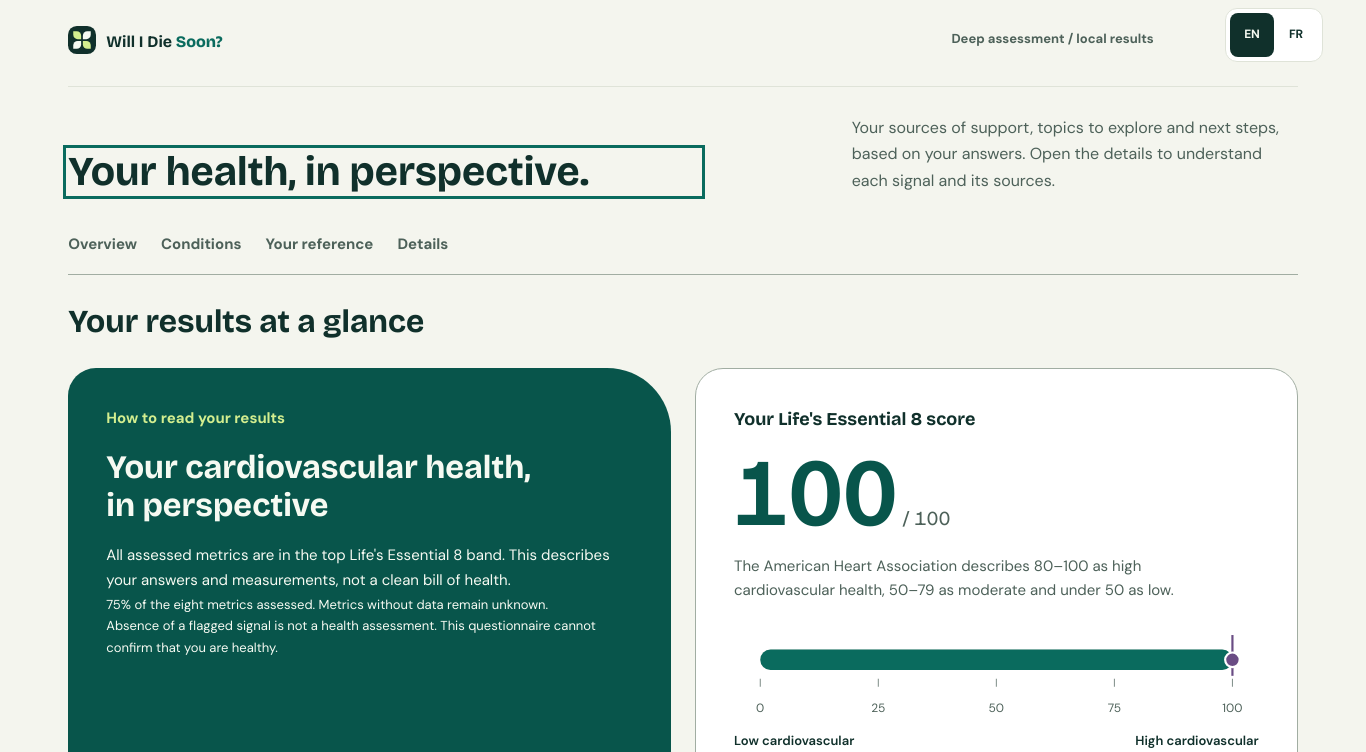
Test: focuses the result title on arrival and only links to accessible report sections
The width and height of the screenshot is (1366, 752).
What coordinates should you click on to do the following:
click the button with aria-label "Français"
I would click on:
 (1296, 35)
Its box is [1274,13,1318,57].
(page scrolled)
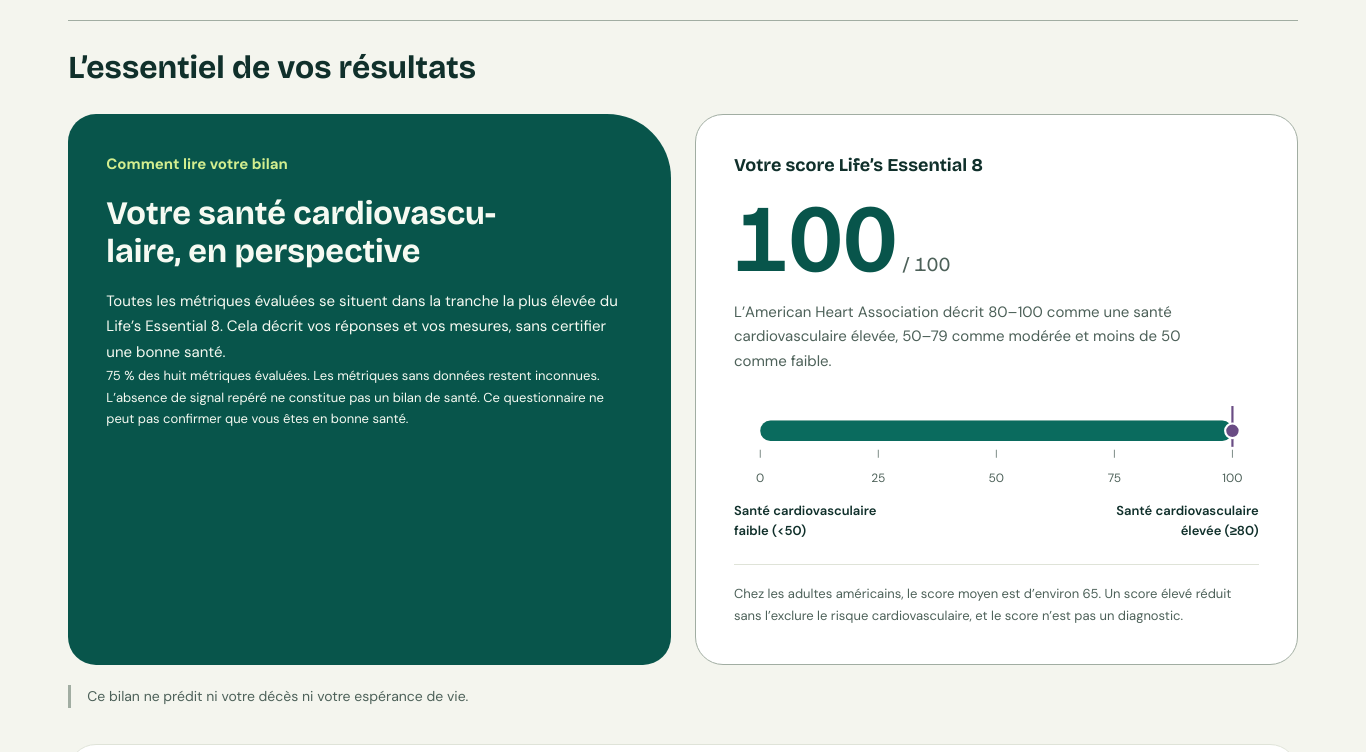
Expected: the element "Votre score Life’s Essential 8" shows "score moyen est d’environ 65", [734,585,1232,624]
